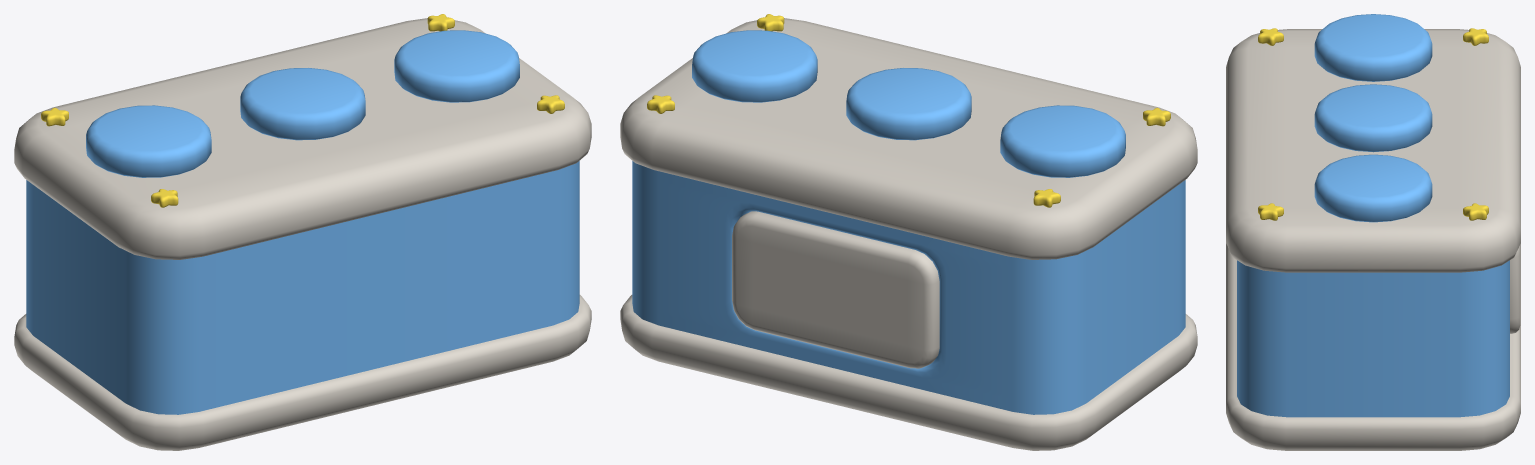
File: StarSlot.fbx
The picture shows the model from 3 angles, left to right: view 1: azimuth 30°, elevation 25°; view 2: azimuth 150°, elevation 25°; view 3: azimuth 270°, elevation 25°; orthographic projection. The views are drawn at different scales.
Visible parts, largest first — view 1: StarSlot, StarSlotTop, StarSlotPedestal, StarSlotBottom, StarSlotStar; view 2: StarSlotTop, StarSlot, StarSlotDrawer, StarSlotPedestal, StarSlotBottom, StarSlotStar; view 3: StarSlotTop, StarSlot, StarSlotPedestal, StarSlotBottom, StarSlotStar, StarSlotDrawer.
Boxes of the visible parts, x1,y1,x2,y2 form: StarSlot: (26, 161, 579, 414); StarSlotTop: (14, 18, 591, 259); StarSlotPedestal: (86, 30, 519, 177); StarSlotBottom: (14, 295, 591, 450); StarSlotStar: (41, 14, 564, 207); StarSlotTop: (620, 18, 1197, 259); StarSlot: (632, 161, 1185, 414); StarSlotDrawer: (732, 211, 939, 368); StarSlotPedestal: (692, 30, 1125, 177); StarSlotBottom: (620, 295, 1197, 450); StarSlotStar: (647, 14, 1170, 207); StarSlotTop: (1226, 29, 1520, 272); StarSlot: (1237, 260, 1509, 417); StarSlotPedestal: (1314, 14, 1432, 222); StarSlotBottom: (1226, 243, 1520, 450); StarSlotStar: (1258, 28, 1488, 220); StarSlotDrawer: (1510, 245, 1520, 333).
Bounding box in the file's own units: 1.36 × 0.7337 × 0.7979.
